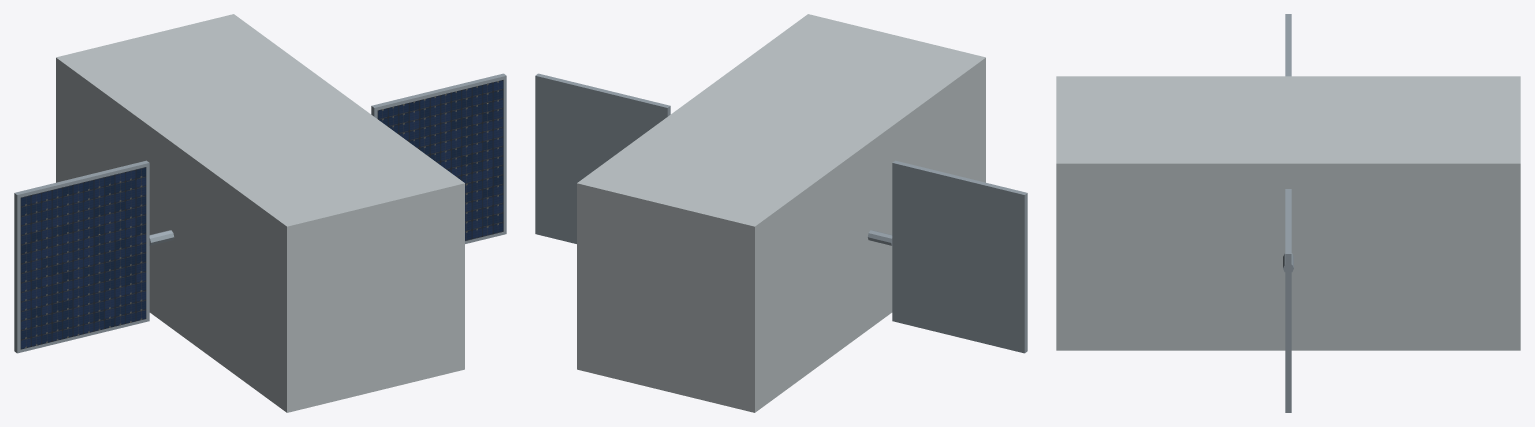
File: ref-otter-56933.glb
3 renders of one model, left to right at view 1: azimuth 30°, elevation 25°; view 2: azimuth 150°, elevation 25°; view 3: azimuth 270°, elevation 25°, orthographic.
Visible parts, largest first — view 1: Spacecraft body, Photovoltaic laminates (×2), Array frame (×2); view 2: Spacecraft body, Array frame (×2); view 3: Spacecraft body, Array frame (×2).
Part boxes in pixels (x1,y1,x2,y2): Spacecraft body: [56, 14, 464, 412]; Photovoltaic laminates (×2): [20, 80, 503, 349]; Array frame (×2): [14, 73, 506, 353]; Spacecraft body: [577, 14, 985, 412]; Array frame (×2): [535, 73, 1027, 353]; Spacecraft body: [1056, 76, 1520, 350]; Array frame (×2): [1285, 14, 1291, 412].
Bounding box in the file's own units: 1.1 × 0.4 × 0.9.
Materials: 3 (1 with a texture image).
